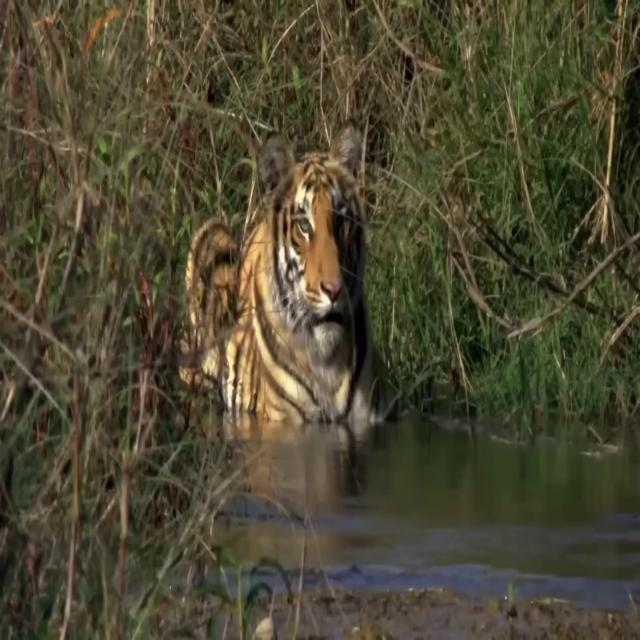tiger: (178, 119, 399, 428)
